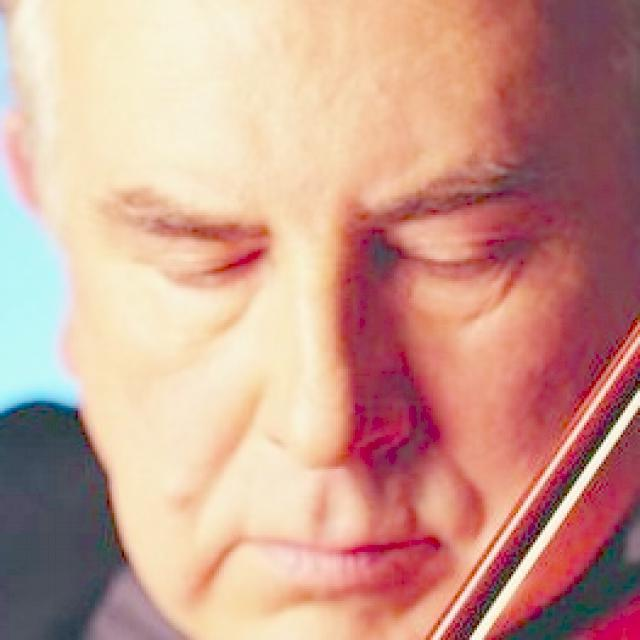sleepy: (95, 122, 567, 606)
